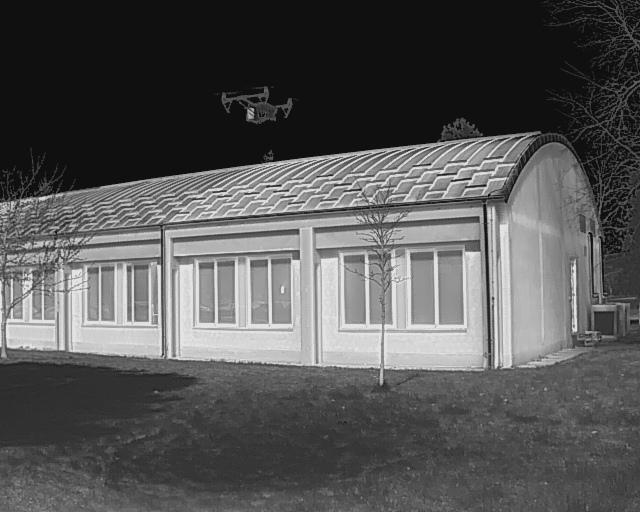drone: (205, 73, 302, 137)
